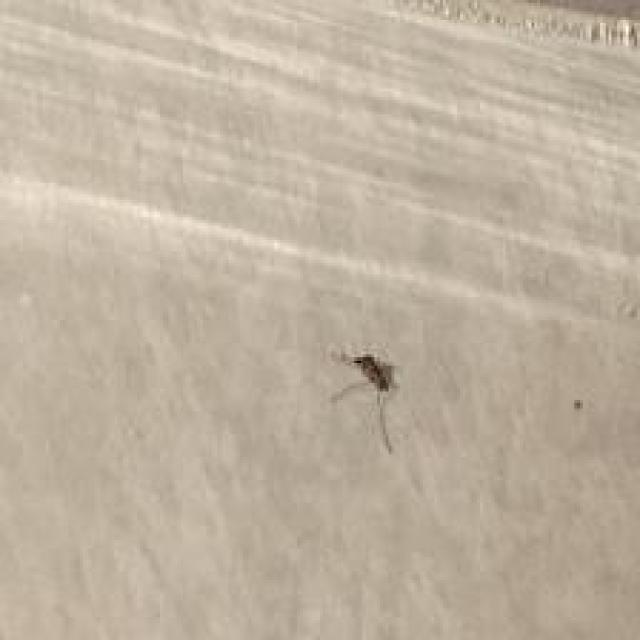Culex: (330, 349, 401, 454)
